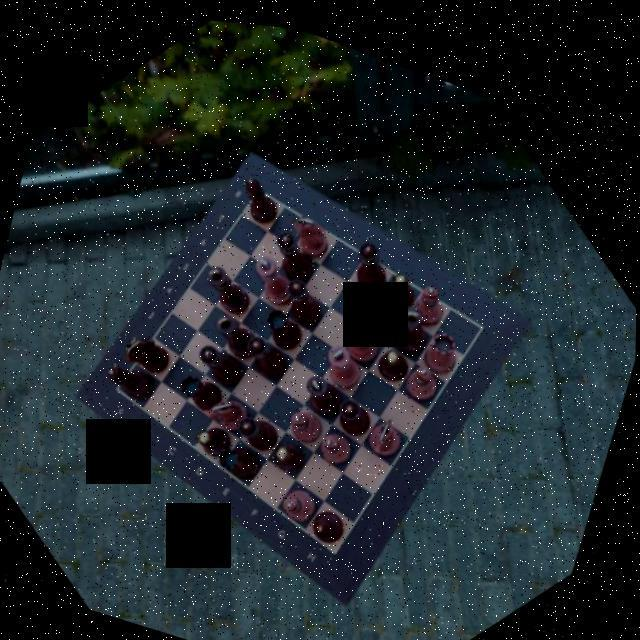chess-table-corners: (458, 288, 508, 340), (316, 517, 364, 568), (239, 166, 284, 212), (103, 364, 145, 408)
